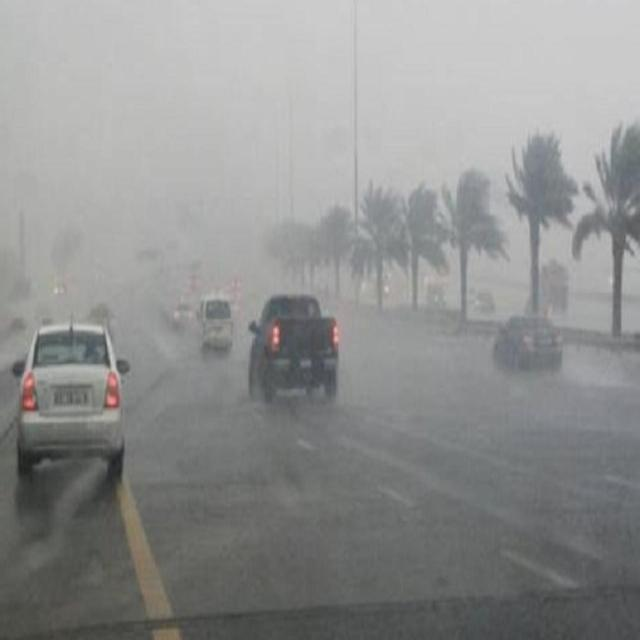Car: (10, 322, 130, 480), (249, 295, 340, 398), (492, 313, 566, 371)
Van: (194, 293, 235, 357)
